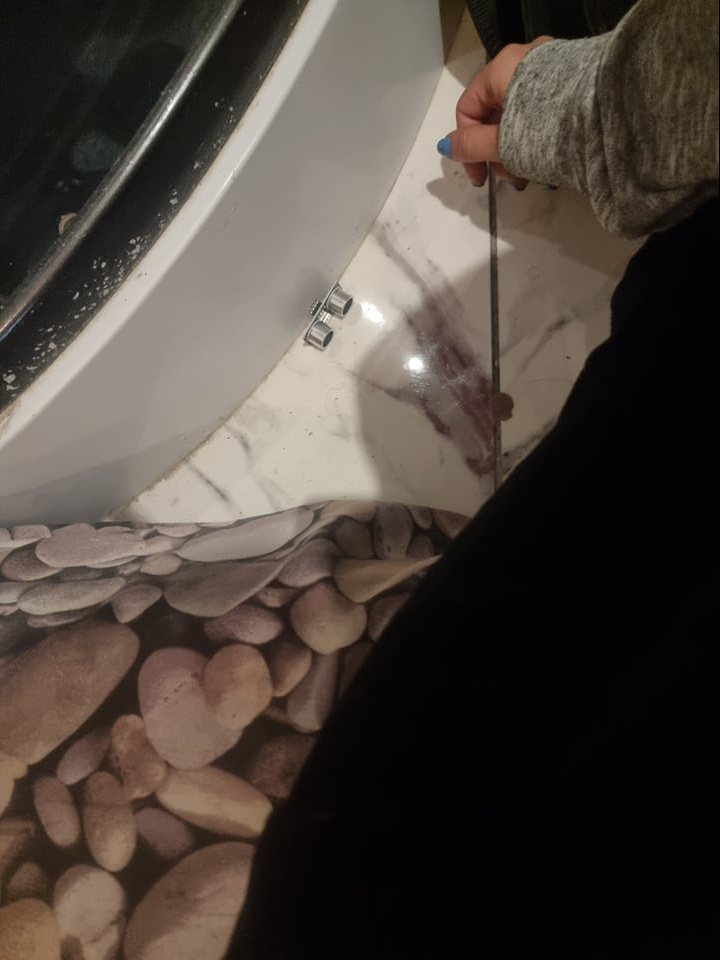SENSOR: (302, 280, 356, 353)
